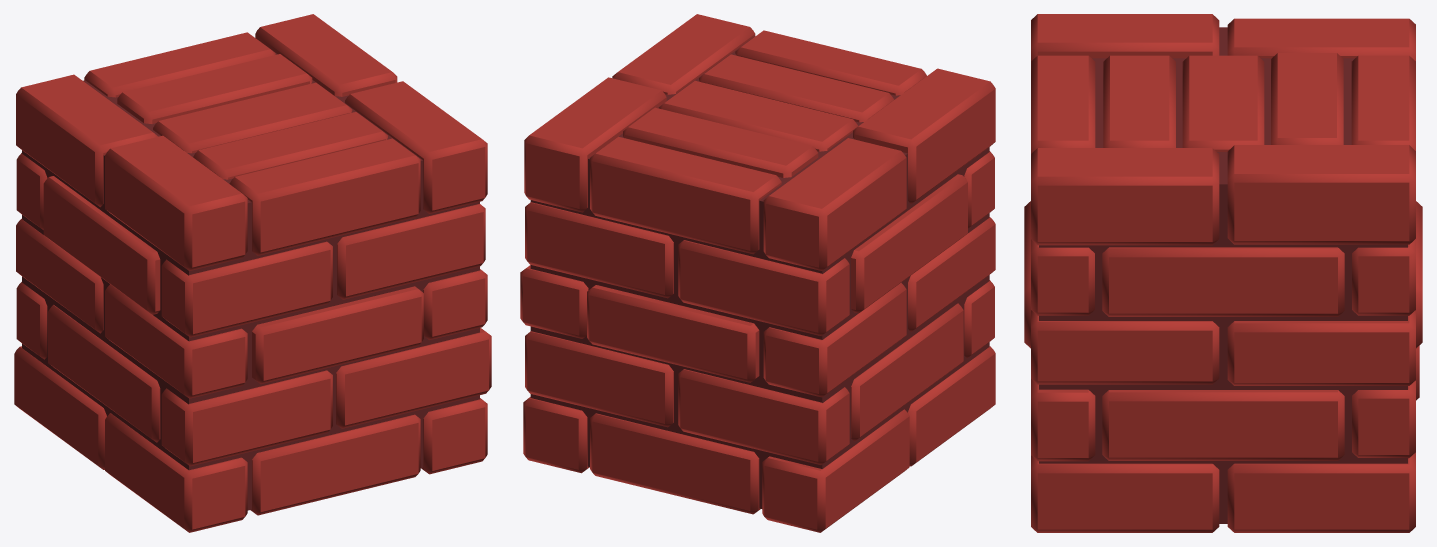
File: Tile-no1.gltf
The picture shows the model from 3 angles, left to right: view 1: azimuth 30°, elevation 25°; view 2: azimuth 150°, elevation 25°; view 3: azimuth 270°, elevation 25°; orthographic projection. The views are drawn at different scales.
Visible parts, largest first — view 1: Cube_Bricks; view 2: Cube_Bricks; view 3: Cube_Bricks.
Part boxes in pixels (left/top/right/bottom): Cube_Bricks: left=14, top=14, right=491, bottom=532; Cube_Bricks: left=520, top=14, right=995, bottom=532; Cube_Bricks: left=1024, top=14, right=1422, bottom=532.
Size of the model in its own units: 1 by 1 by 1.
Materials: 1 (1 with a texture image).
